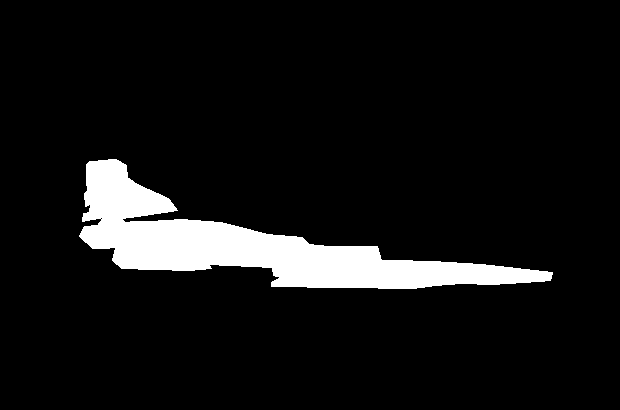type2: (80, 157, 556, 289)
